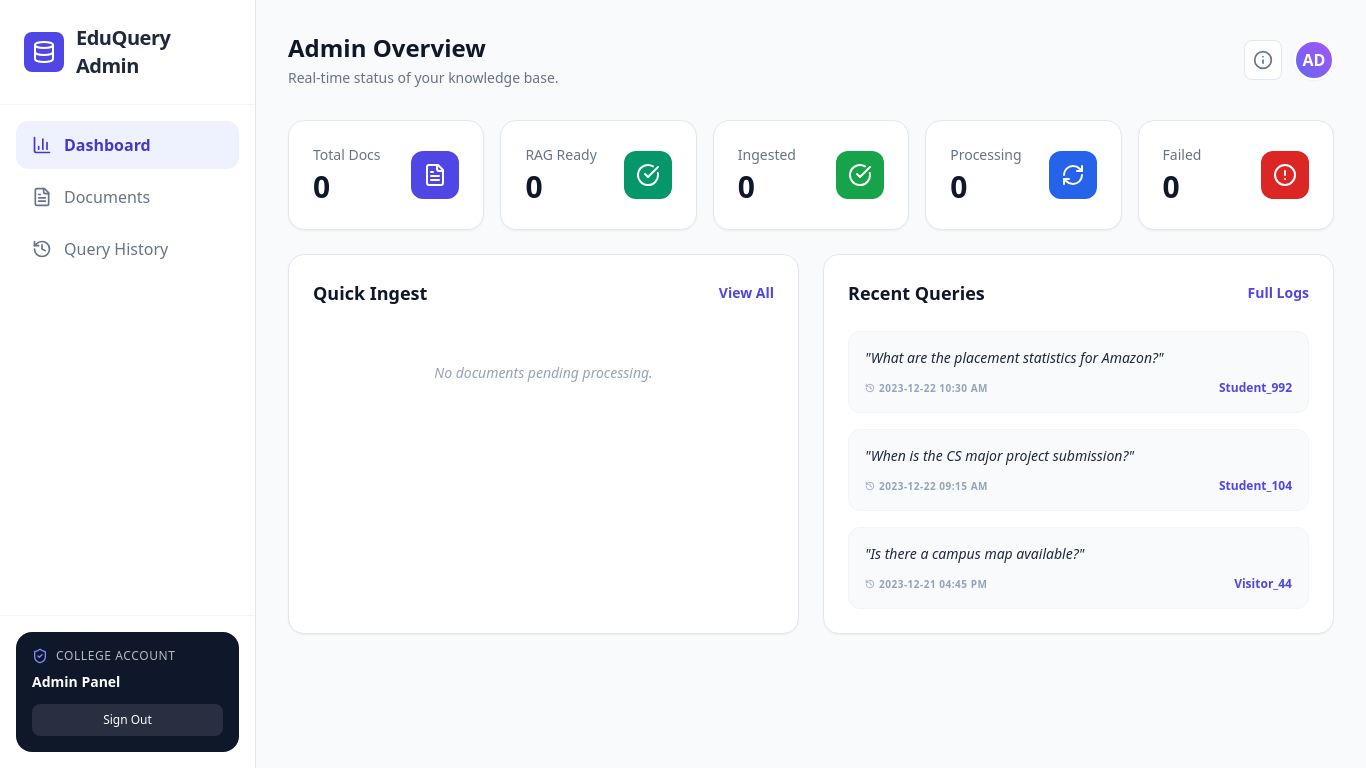
Test: Admin Dashboard › renders document list with correct status
Click the button "Documents" at coordinates (128, 197), box [16,173,239,221]
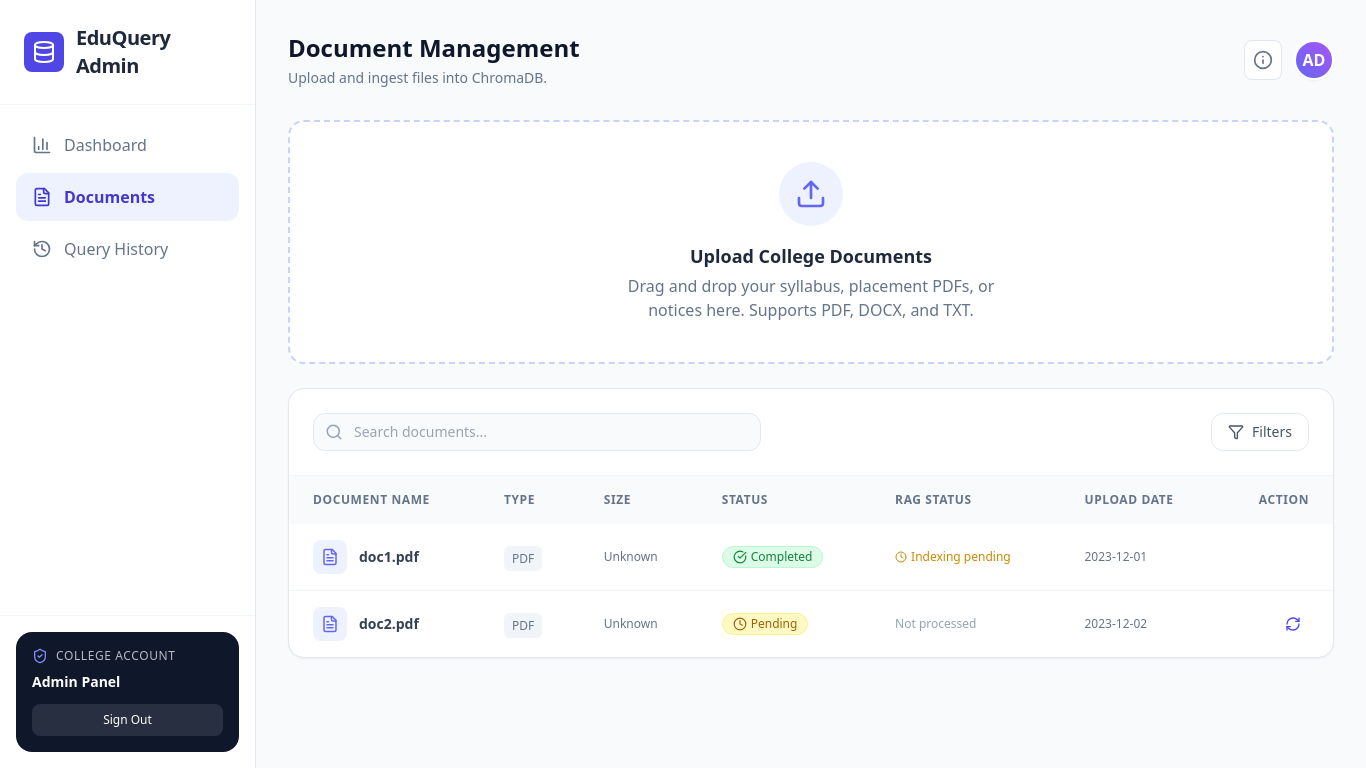
Result: the text "doc1.pdf" is shown at [359,547,419,567]
Result: the text "doc2.pdf" is shown at [359,614,419,634]
Result: the text "Completed" is shown at [722,546,824,568]
